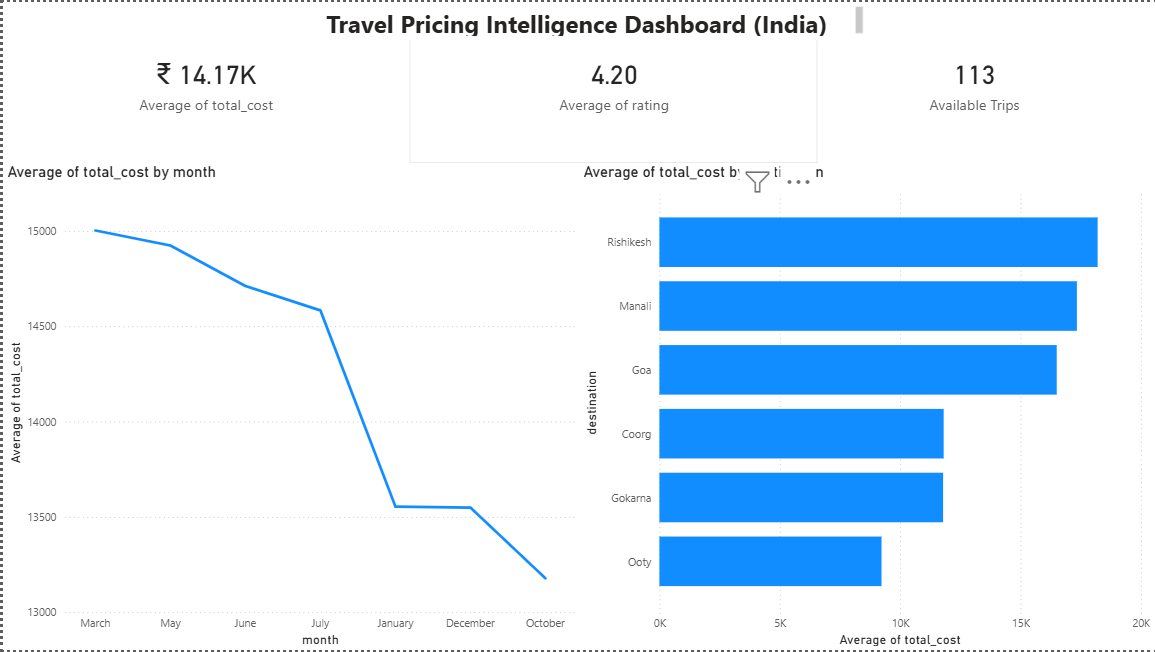

The page's visual inventory and layout, read from the dashboard file:
{"tool":"powerbi","page":{"name":"Page 1","canvas":[1280,720],"ordinal":0},"visuals":[{"type":"lineChart","fields":{"Category":["india_travel_dataset.month"],"Y":["Avg(india_travel_dataset.total_cost)"]},"box":[0,178,640.7,542.4],"z":0},{"type":"barChart","fields":{"Category":["india_travel_dataset.destination"],"Y":["Avg(india_travel_dataset.total_cost)"]},"box":[640.7,178,639,542.4],"z":1000},{"type":"card","fields":{"Values":["Avg(india_travel_dataset.total_cost)"]},"box":[0,0,450.8,178],"z":2000},{"type":"card","fields":{"Values":["india_travel_dataset.Available Trips"]},"box":[878,0,401.7,178],"z":3000},{"type":"card","fields":{"Values":["Avg(india_travel_dataset.rating)"]},"box":[450.8,0,454.2,178],"z":4000},{"type":"textbox","box":[347.5,0,613.6,42.4],"z":5000}]}

Visuals, with their boxes in screenshot pixels (x1, y1, x2, y2), scaled from the page's 1280x720 canvas onto the 1155x652 screenshot:
lineChart - india_travel_dataset.month x Avg(india_travel_dataset.total_cost): box(0, 161, 578, 651)
barChart - india_travel_dataset.destination x Avg(india_travel_dataset.total_cost): box(578, 161, 1154, 651)
card - Avg(india_travel_dataset.total_cost): box(0, 0, 407, 161)
card - india_travel_dataset.Available Trips: box(792, 0, 1154, 161)
card - Avg(india_travel_dataset.rating): box(407, 0, 817, 161)
textbox: box(314, 0, 867, 38)
